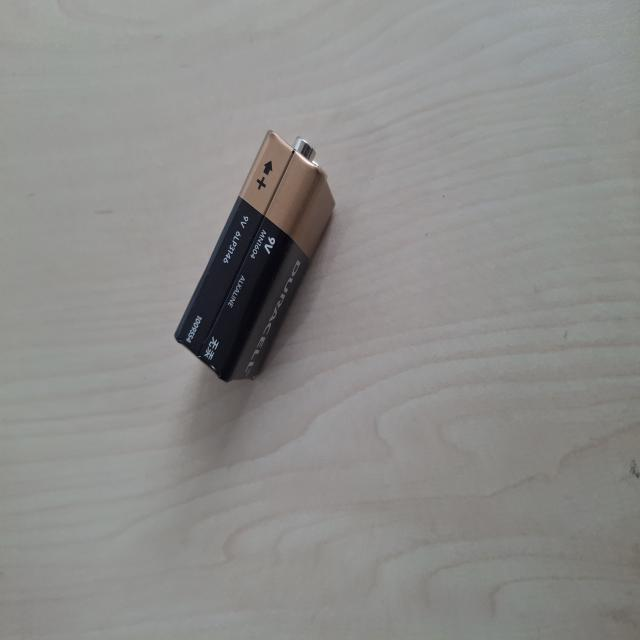9V: (96, 407, 287, 618)
